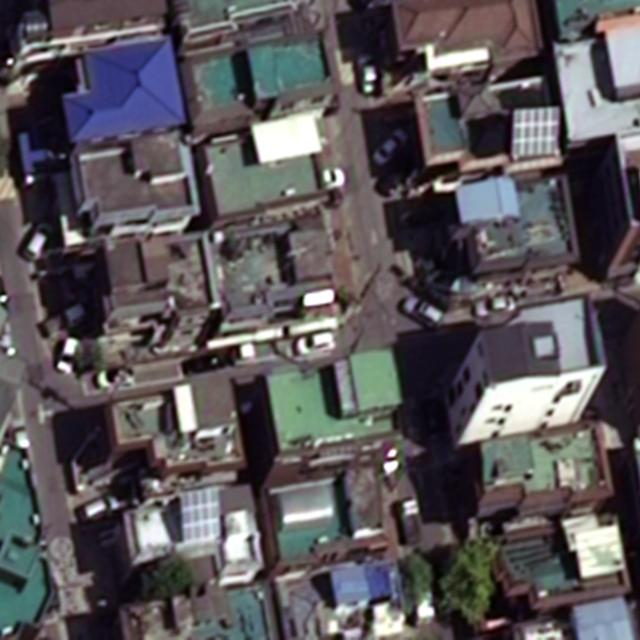panel: (511, 104, 559, 160), (179, 487, 224, 545)
